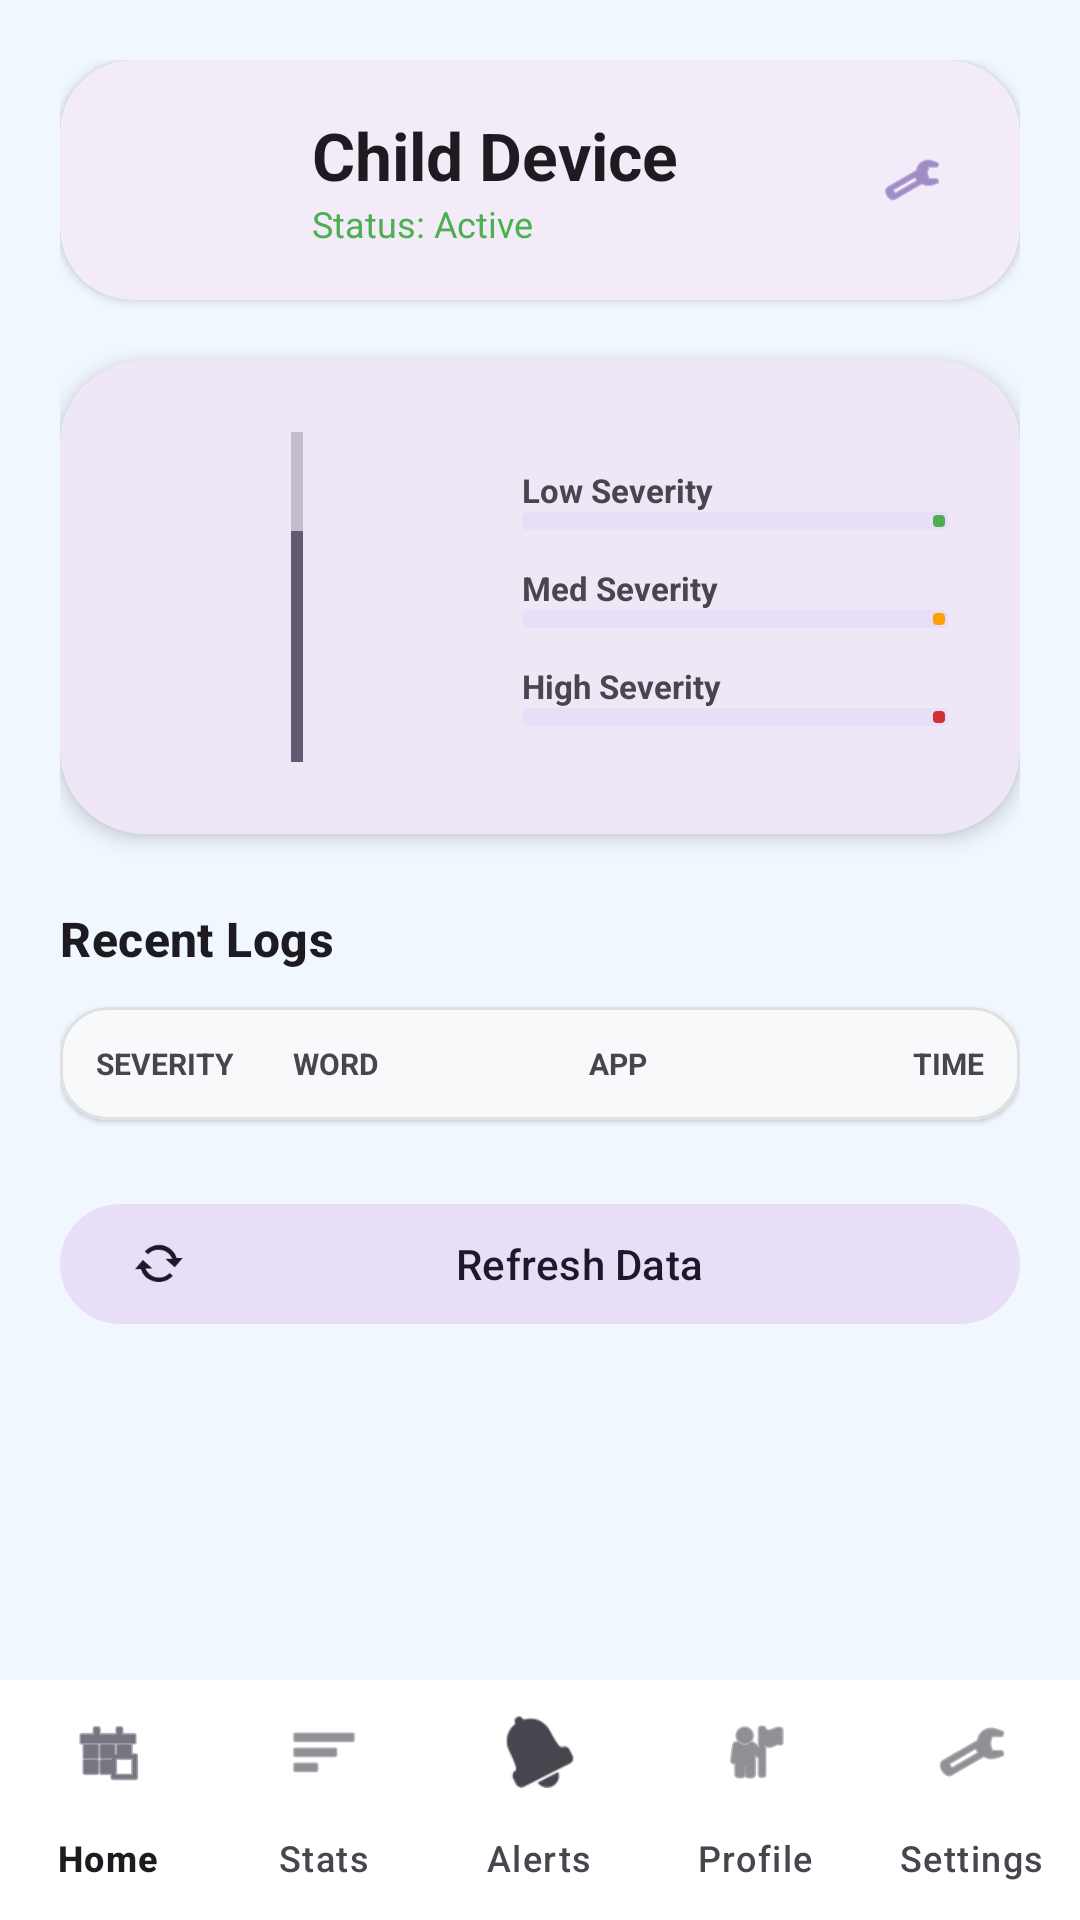

Where to tap for icons on this 1080 × 1920 app screen, as (x=x, y=y):
manage: (x=912, y=180)
